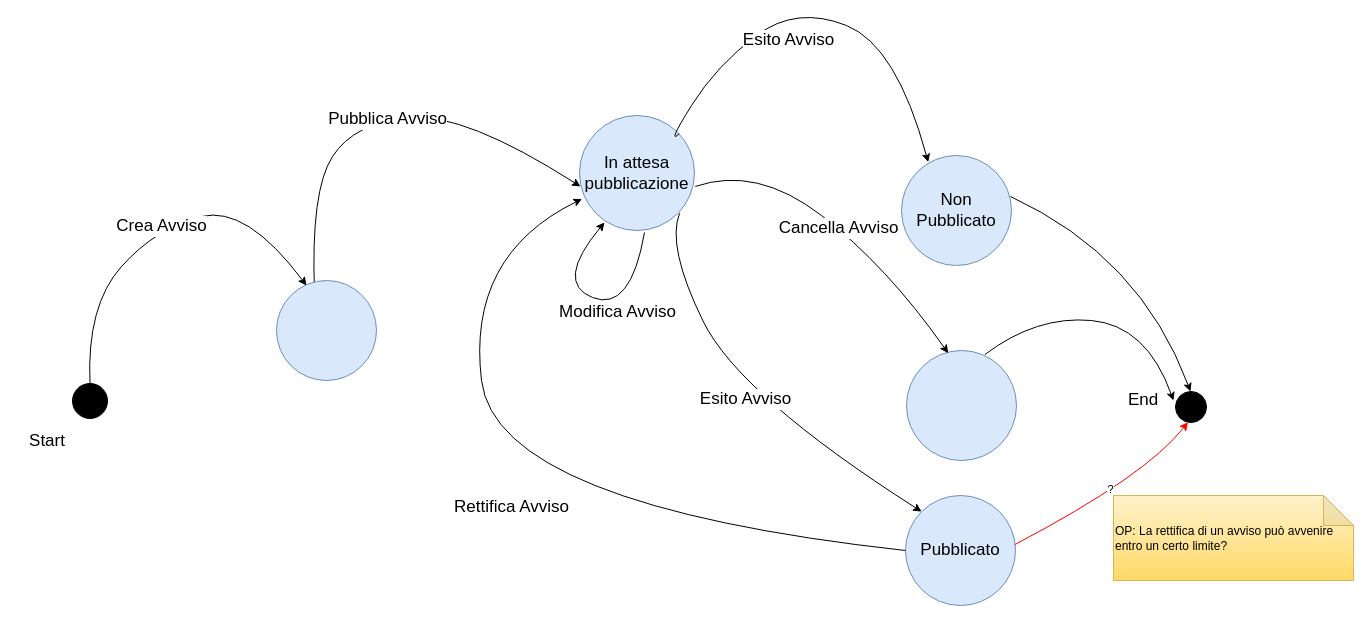
The diagram is 1371 pixels wide and 623 high, and some of its shapes have lost their labels. Each missing label, with the centre of its shape:
"Annulla pubblicazione" belongs at (x=961, y=405).
"Creato" belongs at (x=326, y=330).
